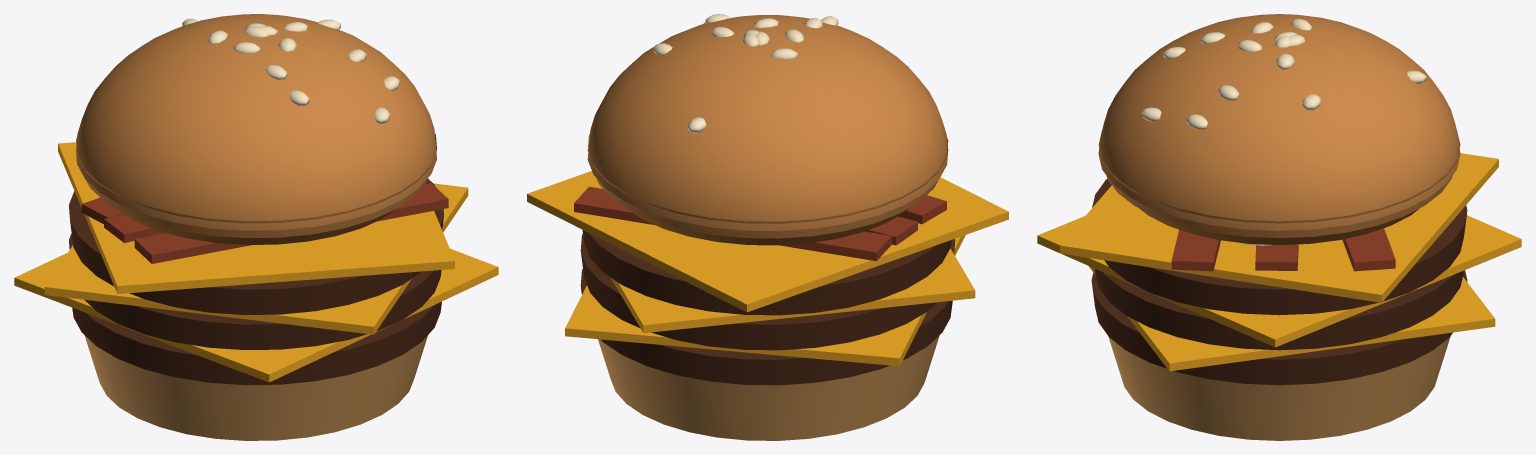
Rendered from burger-triple.glb.
3 views of the same model, side by side, from view 1: azimuth 30°, elevation 25°; view 2: azimuth 150°, elevation 25°; view 3: azimuth 270°, elevation 25° (orthographic).
Bounding box in the file's own units: 0.1986 × 0.155 × 0.1986.
